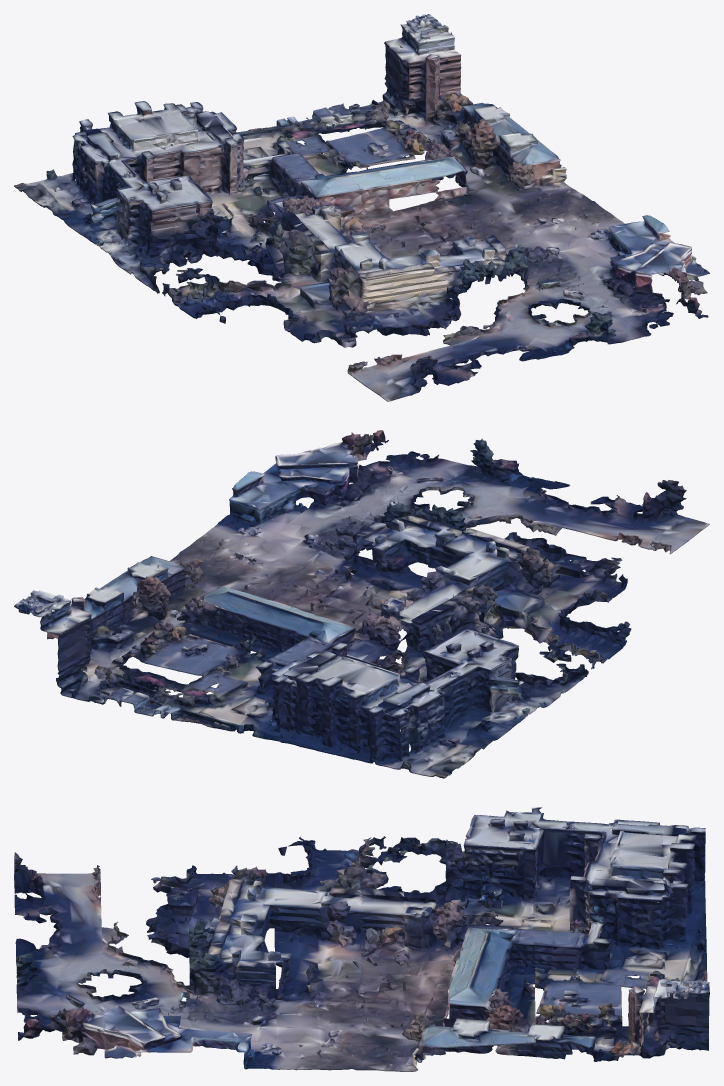
Rendered from google_tiles.obj.
3 renders of one model, top to bottom at view 1: azimuth 30°, elevation 25°; view 2: azimuth 150°, elevation 25°; view 3: azimuth 270°, elevation 25°, orthographic. The views are drawn at different scales.
Parts seen in each view (by area): view 1: Google_Tiles_Final; view 2: Google_Tiles_Final; view 3: Google_Tiles_Final.
Boxes of the visible parts, box(x1,y1,x2,y2) form: Google_Tiles_Final: box(14, 14, 709, 401); Google_Tiles_Final: box(14, 430, 709, 778); Google_Tiles_Final: box(14, 807, 709, 1071).
Bounding box in the file's own units: 234 × 42.41 × 307.
